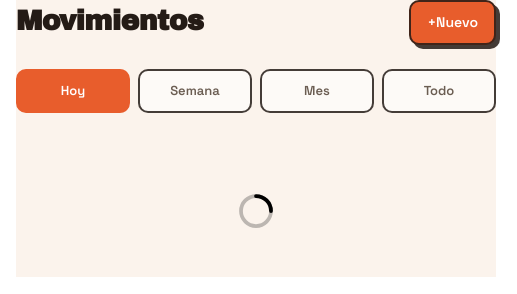
Test: MovementsPage race condition guard › ignores a stale (first) request that resolves after a fresher (second) request
Click the button "Semana".
click(195, 91)  # box x1=138 y1=69 x2=252 y2=113
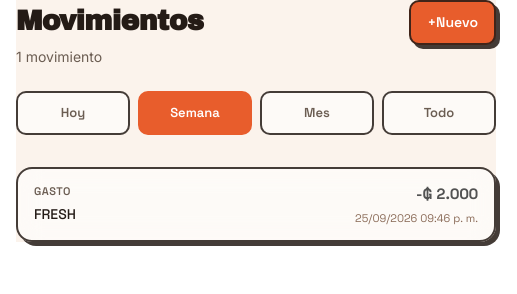
Expected: the text "FRESH" is shown, x1=34 y1=204 x2=76 y2=224
